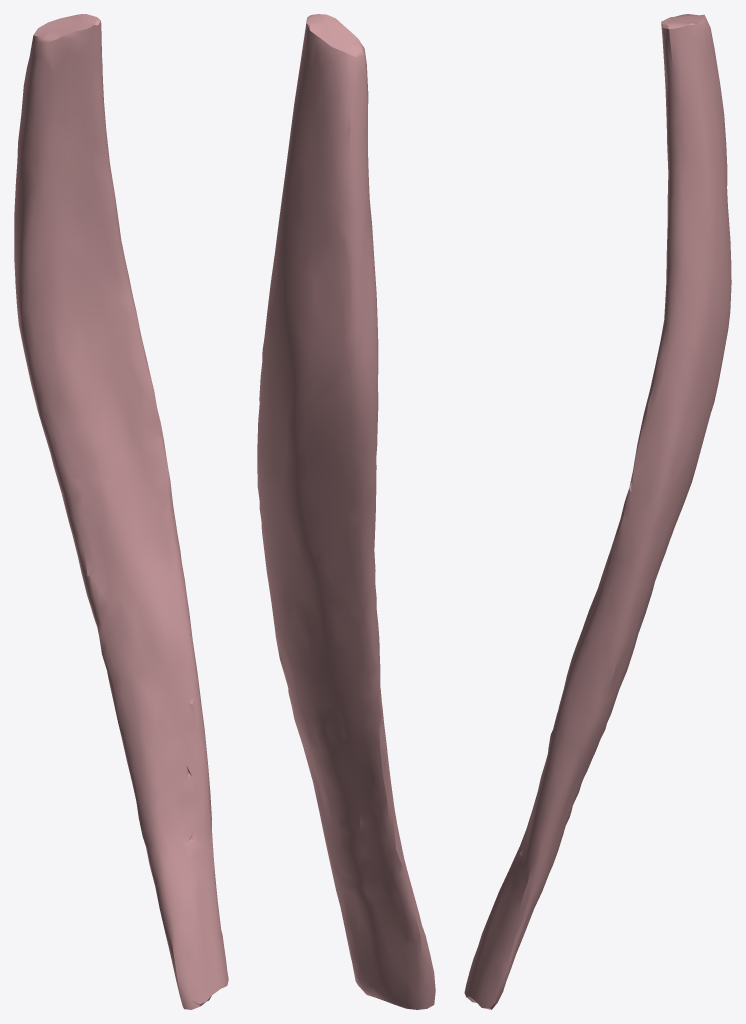
File: fma297782_mm1870m.glb
3 views of the same model, side by side, from view 1: azimuth 30°, elevation 25°; view 2: azimuth 150°, elevation 25°; view 3: azimuth 270°, elevation 25° (orthographic). The views are drawn at different scales.
Parts seen in each view (by area): view 1: FMA297782_MM1870M; view 2: FMA297782_MM1870M; view 3: FMA297782_MM1870M.
Boxes of the visible parts, <box> form: FMA297782_MM1870M: <box>14,14,228,1009</box>; FMA297782_MM1870M: <box>257,14,435,1009</box>; FMA297782_MM1870M: <box>464,14,731,1009</box>.
Bounding box in the file's own units: 0.0265 × 0.1879 × 0.0469.
